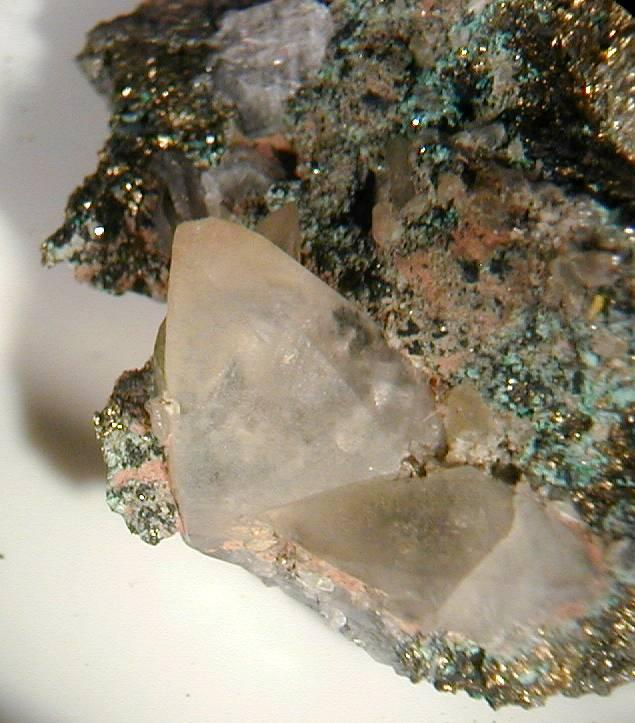calcite: (153, 218, 610, 674), (213, 0, 332, 134)
